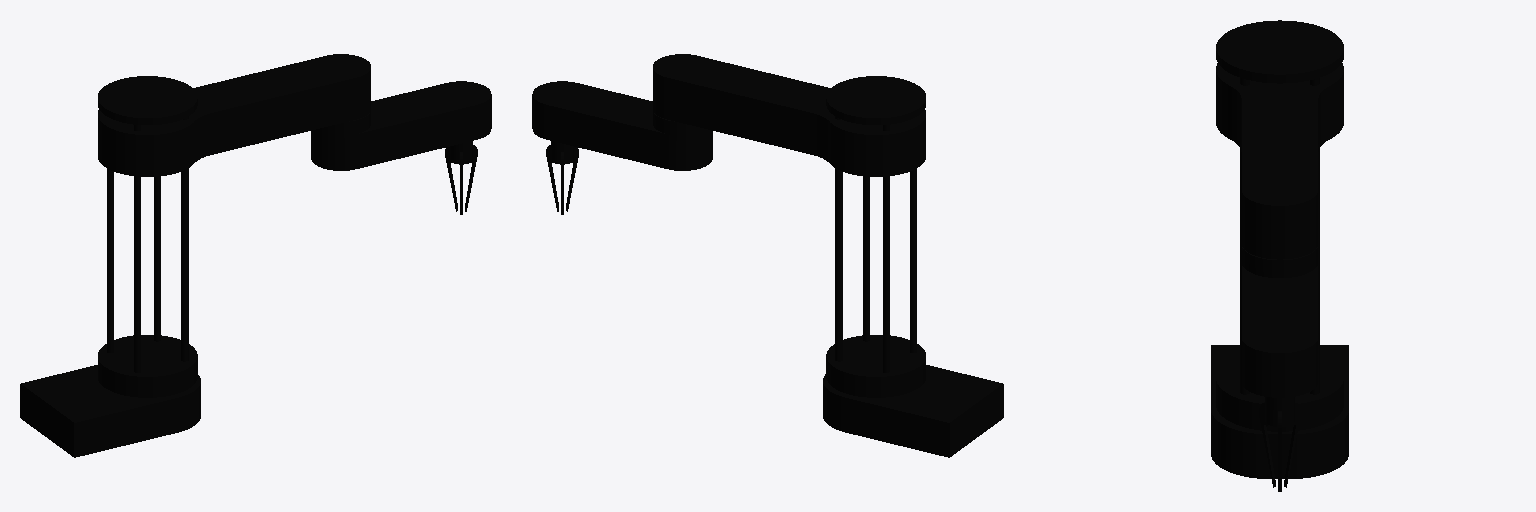
robot.urdf — bizon:
<?xml version="1.0" ?>
<!-- =================================================================================== -->
<!-- |    This document was autogenerated by xacro from src/bizon_description/urdf/bizon.urdf.xacro | -->
<!-- |    EDITING THIS FILE BY HAND IS NOT RECOMMENDED                                 | -->
<!-- =================================================================================== -->
<robot name="bizon">
  <!--xacro:include
    filename="$(find bizon_description)/urdf/bizon_mk1/bizon_system_interface.xacro" /-->
  <!--xacro:include filename="$(find bizon_description)/urdf/bizon_mk1/hand.xacro" /-->

  <material name="black">
    <color rgba="0.05 0.05 0.05 1.0"/>
  </material>

  <link name="bizon3base_link">
    <visual>
      <origin rpy="1.57079632679 0.0 0.0" xyz="-0.150 0.070 0.0"/>
      <geometry>
        <mesh filename="package://bizon_description/meshes/base_link.stl" scale="0.001 0.001 0.001"/>
      </geometry>
      <material name="black"/>
    </visual>
    <collision>
      <origin rpy="1.57079632679 0.0 0.0" xyz="-0.150 0.070 0.0"/>
      <geometry>
        <mesh filename="package://bizon_description/meshes/base_link.stl" scale="0.001 0.001 0.001"/>
      </geometry>
    </collision>
    <inertial>
      <inertia ixx="0.00029" ixy="0.0" ixz="0.0" iyy="0.00029" iyz="0.0" izz="0.00052"/>
      <origin rpy="1.57079632679 0.0 0.0" xyz="-0.150 0.070 0.0"/>
      <mass value="1.00000"/>
    </inertial>
  </link>
  <link name="bizon3tower_link">
    <collision>
      <origin rpy="0.0 0.0 0.0" xyz="0.0 0.0 0.0"/>
      <geometry>
        <mesh filename="package://bizon_description/meshes/link1.stl" scale="0.001 0.001 0.001"/>
      </geometry>
    </collision>
    <inertial>
      <inertia ixx="0.02063" ixy="0.0" ixz="0.00004" iyy="0.02063" iyz="0.00001" izz="0.00118"/>
      <origin rpy="0.0 0.0 0.0" xyz="0.0 0.0 0.0"/>
      <mass value="1.00000"/>
    </inertial>
    <visual>
      <origin rpy="0.0 0.0 0.0" xyz="0.0 0.0 0.0"/>
      <geometry>
        <mesh filename="package://bizon_description/meshes/link1.stl" scale="0.001 0.001 0.001"/>
      </geometry>
      <material name="black"/>
    </visual>
  </link>
  <link name="bizon3arm1_link">
    <collision>
      <origin rpy="1.57079632679 0 1.57079632679" xyz="-0.060 -0.060 0.0"/>
      <geometry>
        <mesh filename="package://bizon_description/meshes/link2.stl" scale="0.001 0.001 0.001"/>
      </geometry>
    </collision>
    <inertial>
      <inertia ixx="0.00135" ixy="-0.00209" ixz="0.00002" iyy="0.00767" iyz="0.00001" izz="0.00877"/>
      <origin rpy="1.57079632679 0 1.57079632679" xyz="-0.060 -0.060 0.0"/>
      <mass value="1.00000"/>
    </inertial>
    <visual>
      <origin rpy="1.57079632679 0 1.57079632679" xyz="-0.060 -0.060 0.0"/>
      <geometry>
        <mesh filename="package://bizon_description/meshes/link2.stl" scale="0.001 0.001 0.001"/>
      </geometry>
      <material name="black"/>
    </visual>
  </link>
  <link name="bizon3arm2_link">
    <collision>
      <origin rpy="-1.57079632679 0.0 0.0" xyz="0.0 0.0 0.0"/>
      <geometry>
        <mesh filename="package://bizon_description/meshes/link3.stl" scale="0.001 0.001 0.001"/>
      </geometry>
    </collision>
    <inertial>
      <inertia ixx="0.00135" ixy="-0.00209" ixz="0.00002" iyy="0.00767" iyz="0.00001" izz="0.00877"/>
      <origin rpy="-1.57079632679 0.0 0.0" xyz="0.0 0.0 0.0"/>
      <mass value="1.00000"/>
    </inertial>
    <visual>
      <origin rpy="-1.57079632679 0.0 0.0" xyz="0.0 0.0 0.0"/>
      <geometry>
        <mesh filename="package://bizon_description/meshes/link3.stl" scale="0.001 0.001 0.001"/>
      </geometry>
      <material name="black"/>
    </visual>
  </link>
  <link name="bizon3gripper_base_link">
    <visual>
      <origin rpy="0 0.0 0.0" xyz="0.0 0.0 0.0"/>
      <geometry>
        <mesh filename="package://bizon_description/meshes/gripper_base.stl" scale="0.001 0.001 0.001"/>
      </geometry>
      <material name="black"/>
    </visual>
    <collision>
      <origin rpy="0 0.0 0.0" xyz="0.0 0.0 0.0"/>
      <geometry>
        <mesh filename="package://bizon_description/meshes/gripper_base.stl" scale="0.001 0.001 0.001"/>
      </geometry>
    </collision>
    <inertial>
      <inertia ixx="0.0001" ixy="0.0" ixz="0.0" iyy="0.0001" iyz="0.0" izz="0.0001"/>
      <origin rpy="0 0.0 0.0" xyz="0.0 0.0 0.0"/>
      <mass value="1.000"/>
    </inertial>
  </link>
  <link name="bizon3gripper_finger1_link">
    <visual>
      <origin rpy="0.0 0.0 0.0" xyz="0.0 0.0 0.0"/>
      <geometry>
        <mesh filename="package://bizon_description/meshes/gripper_finger_v2.stl" scale="0.001 0.0015 0.001"/>
      </geometry>
      <material name="black"/>
    </visual>
    <collision>
      <origin rpy="0.0 0.0 0.0" xyz="0.0 0.0 0.0"/>
      <geometry>
        <mesh filename="package://bizon_description/meshes/gripper_finger_v2.stl" scale="0.001 0.0015 0.001"/>
      </geometry>
    </collision>
    <inertial>
      <inertia ixx="0.00001" ixy="0.0" ixz="0.0" iyy="0.00001" iyz="0.0" izz="0.00001"/>
      <origin rpy="0.0 0.0 0.0" xyz="0.0 0.0 0.0"/>
      <mass value="0.100"/>
    </inertial>
  </link>
  <link name="bizon3gripper_finger2_link">
    <visual>
      <origin rpy="0.0 0.0 0.0" xyz="0.0 0.0 0.0"/>
      <geometry>
        <mesh filename="package://bizon_description/meshes/gripper_finger_v2.stl" scale="0.001 0.0015 0.001"/>
      </geometry>
      <material name="black"/>
    </visual>
    <collision>
      <origin rpy="0.0 0.0 0.0" xyz="0.0 0.0 0.0"/>
      <geometry>
        <mesh filename="package://bizon_description/meshes/gripper_finger_v2.stl" scale="0.001 0.0015 0.001"/>
      </geometry>
    </collision>
    <inertial>
      <inertia ixx="0.00001" ixy="0.0" ixz="0.0" iyy="0.00001" iyz="0.0" izz="0.00001"/>
      <origin rpy="0.0 0.0 0.0" xyz="0.0 0.0 0.0"/>
      <mass value="0.100"/>
    </inertial>
  </link>
  <link name="bizon3gripper_finger3_link">
    <visual>
      <origin rpy="0.0 0.0 0.0" xyz="0.0 0.0 0.0"/>
      <geometry>
        <mesh filename="package://bizon_description/meshes/gripper_finger_v2.stl" scale="0.001 0.0015 0.001"/>
      </geometry>
      <material name="black"/>
    </visual>
    <collision>
      <origin rpy="0.0 0.0 0.0" xyz="0.0 0.0 0.0"/>
      <geometry>
        <mesh filename="package://bizon_description/meshes/gripper_finger_v2.stl" scale="0.001 0.0015 0.001"/>
      </geometry>
    </collision>
    <inertial>
      <inertia ixx="0.00001" ixy="0.0" ixz="0.0" iyy="0.00001" iyz="0.0" izz="0.00001"/>
      <origin rpy="0.0 0.0 0.0" xyz="0.0 0.0 0.0"/>
      <mass value="0.100"/>
    </inertial>
  </link>
  <joint name="bizon3rev1" type="revolute">
    <limit effort="0.0" lower="-3.14" upper="3.14" velocity="12.56"/>
    <origin rpy="0.0 0.0 0.0" xyz="0.0 0.0 0.045"/>
    <parent link="bizon3base_link"/>
    <child link="bizon3tower_link"/>
    <axis xyz="0.0 0.0 1.00000"/>
  </joint>
  <joint name="bizon3pris1" type="prismatic">
    <limit effort="100.0" lower="0.0" upper="0.28" velocity="0.5"/>
    <origin rpy="0.0 0.0 0.0" xyz="0 0 0.38"/>
    <parent link="bizon3tower_link"/>
    <child link="bizon3arm1_link"/>
    <axis xyz="0.0 0.0 -1.0"/>
  </joint>
  <joint name="bizon3rev2" type="revolute">
    <limit effort="0.0" lower="-3.14" upper="3.14" velocity="12.56"/>
    <origin rpy="0.0 0.0 0.0" xyz="0.29 0 -0.135"/>
    <parent link="bizon3arm1_link"/>
    <child link="bizon3arm2_link"/>
    <axis xyz="0.0 0.0 1.0"/>
  </joint>
  <joint name="bizon3rev3" type="revolute">
    <limit effort="0.0" lower="-3.14" upper="3.14" velocity="12.56"/>
    <origin rpy="3.1415 0.0 0.0" xyz="0.18 0.0 0.0"/>
    <parent link="bizon3arm2_link"/>
    <child link="bizon3gripper_base_link"/>
    <axis xyz="0.0 0.0 1.0"/>
  </joint>
  <joint name="bizon3gripper_finger1_joint" type="revolute">
    <limit effort="5.0" lower="-0.06" upper="0.41" velocity="12.56"/>
    <origin rpy="-1.57079632679 3.14159265359 0.0" xyz="0.015 0.0 0.035"/>
    <parent link="bizon3gripper_base_link"/>
    <child link="bizon3gripper_finger1_link"/>
    <axis xyz="0.0 0.0 1.0"/>
  </joint>
  <joint name="bizon3gripper_finger2_joint" type="revolute">
    <limit effort="5.0" lower="-0.06" upper="0.41" velocity="12.56"/>
    <origin rpy="-1.57079632679 -3.14159265359 2.09439510238" xyz="-0.0075 0.01299038105 0.035"/>
    <parent link="bizon3gripper_base_link"/>
    <child link="bizon3gripper_finger2_link"/>
    <axis xyz="0.0 0.0 1.0"/>
  </joint>
  <joint name="bizon3gripper_finger3_joint" type="revolute">
    <limit effort="5.0" lower="-0.06" upper="0.41" velocity="12.56"/>
    <origin rpy="-1.57079632679 -3.14159265359 -2.09439510238" xyz="-0.0075 -0.01299038105 0.035"/>
    <parent link="bizon3gripper_base_link"/>
    <child link="bizon3gripper_finger3_link"/>
    <axis xyz="0.0 0.0 1.0"/>
  </joint>
</robot>

--- Render facts (derived) ---
3 views of the same robot in one strip: view 1: azimuth 30°, elevation 25°; view 2: azimuth 150°, elevation 25°; view 3: azimuth 270°, elevation 25° (orthographic).
Model bizon with 8 links and 7 joints (6 revolute, 1 prismatic), rooted at bizon3base_link, posed every joint at zero.
Links seen in each view (by area): view 1: bizon3arm1_link, bizon3tower_link, bizon3arm2_link, bizon3base_link; view 2: bizon3arm1_link, bizon3tower_link, bizon3arm2_link, bizon3base_link; view 3: bizon3arm1_link, bizon3tower_link, bizon3arm2_link, bizon3base_link, bizon3gripper_base_link.
Boxes of the visible links, x1,y1,x2,y2 form: bizon3arm1_link: (98, 54, 370, 176); bizon3tower_link: (98, 76, 197, 397); bizon3arm2_link: (311, 81, 491, 170); bizon3base_link: (20, 365, 200, 457); bizon3arm1_link: (653, 54, 925, 176); bizon3tower_link: (826, 76, 925, 397); bizon3arm2_link: (532, 81, 712, 170); bizon3base_link: (823, 365, 1003, 457); bizon3arm1_link: (1216, 63, 1343, 259); bizon3tower_link: (1216, 20, 1343, 431); bizon3arm2_link: (1242, 247, 1317, 397); bizon3base_link: (1211, 345, 1348, 478); bizon3gripper_base_link: (1265, 397, 1294, 426).
Bounding box of the posed robot: 0.659 × 0.14 × 0.453 m (x, y, z).
Meshes: 6 distinct files referenced, 8 mesh visuals loaded (6 binary STL).
